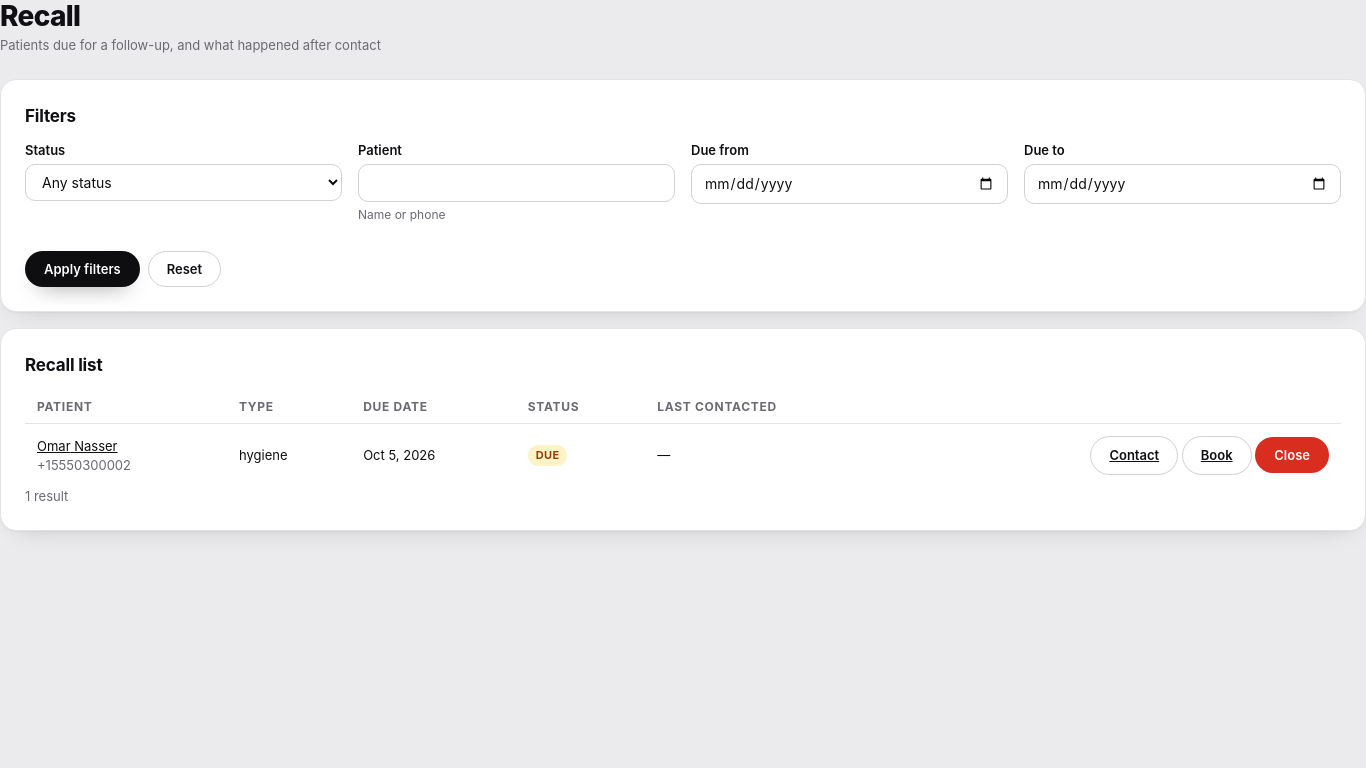
Scenario: RecallPage › opens the close confirmation with a reason picker
This screenshot has width=1366, height=768.
Click the button "Close" at x=1292, y=455, box x1=1255 y1=437 x2=1329 y2=473
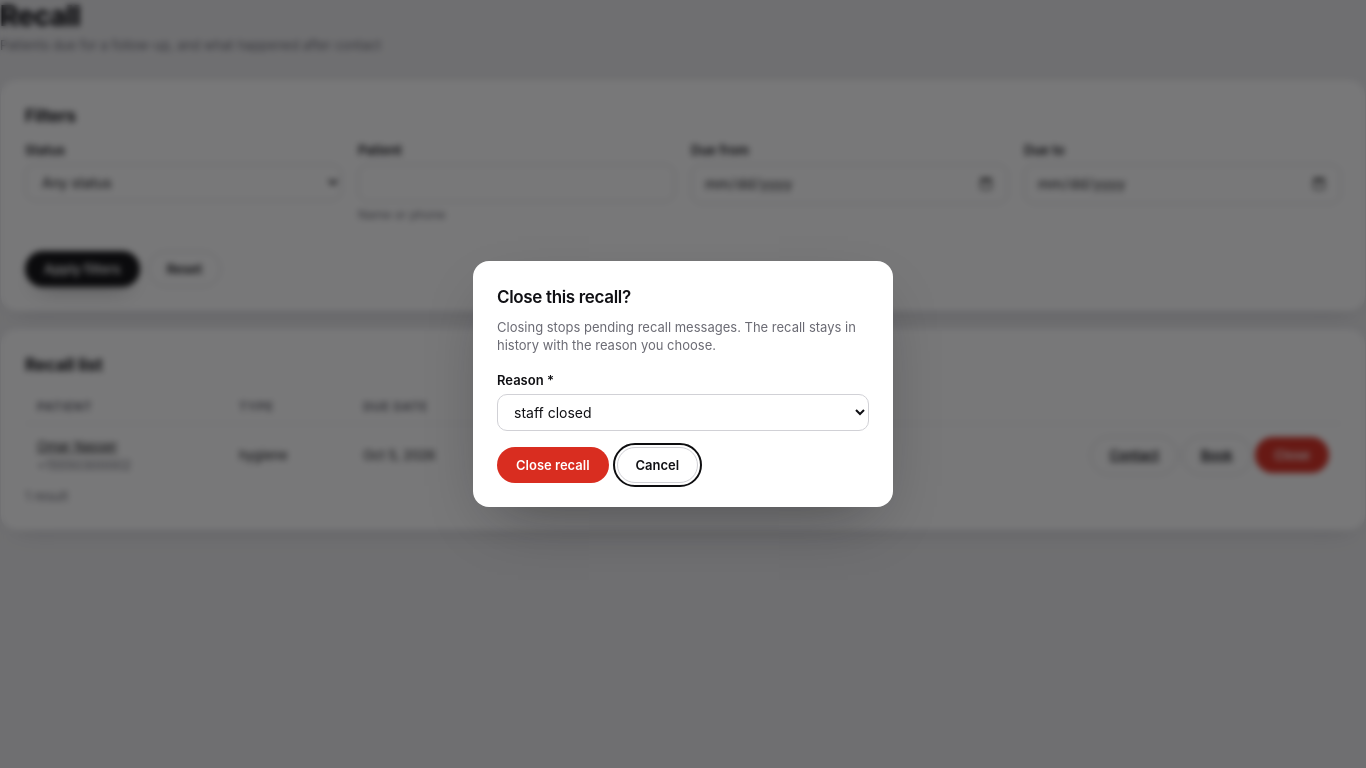
Expected: the heading "Close this recall?" is shown, x1=497 y1=287 x2=631 y2=307
Expected: the dropdown labelled "Reason *" is shown, x1=497 y1=394 x2=869 y2=431
